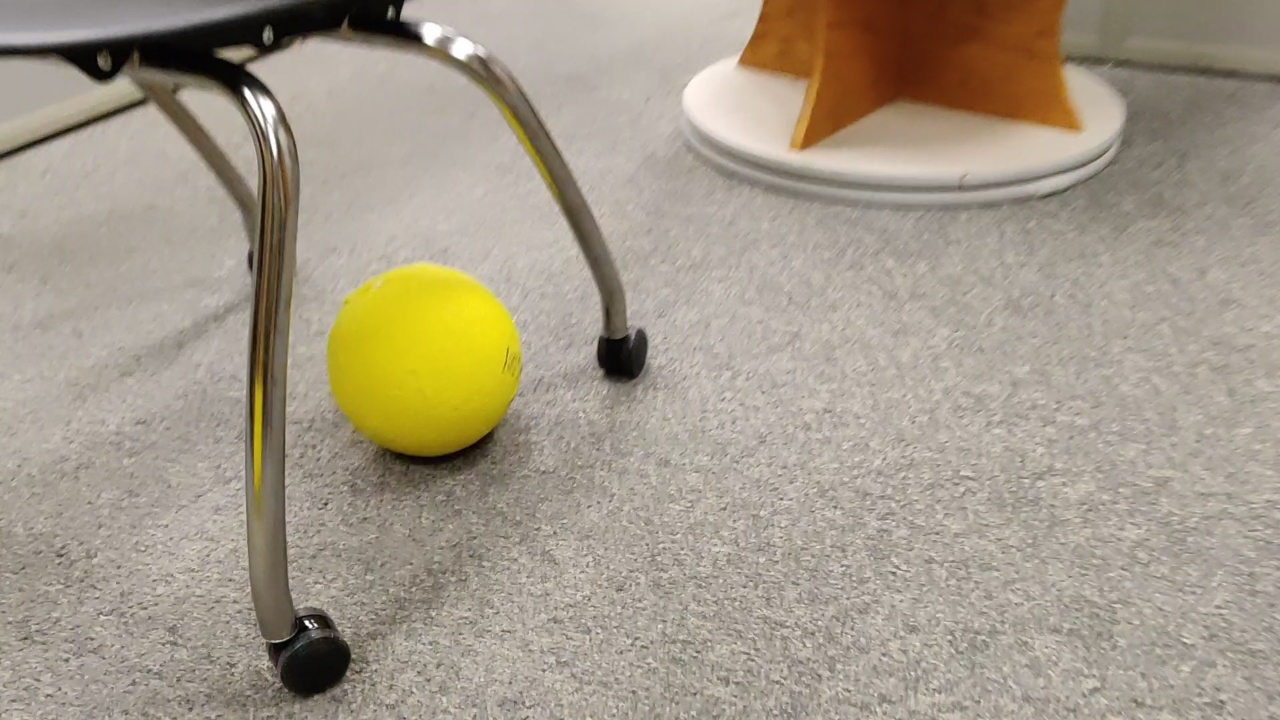Ball: (325, 262, 525, 455)
